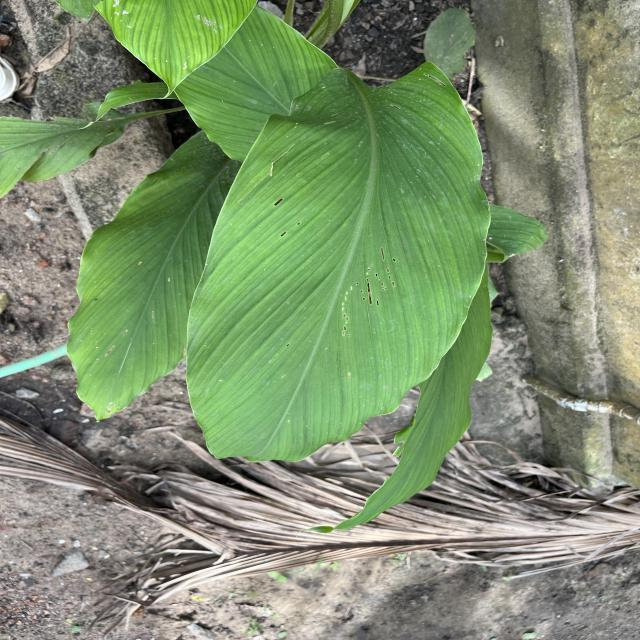Curcuma longa: (178, 54, 496, 467), (62, 109, 252, 428)
